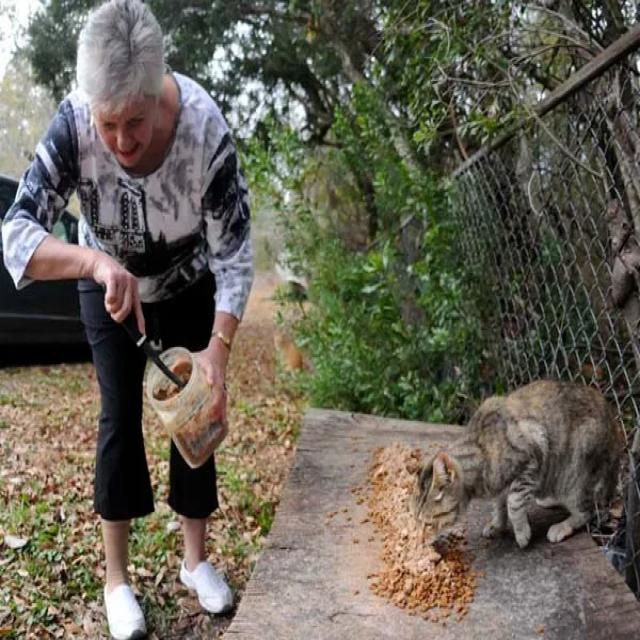cat: (416, 380, 621, 546)
